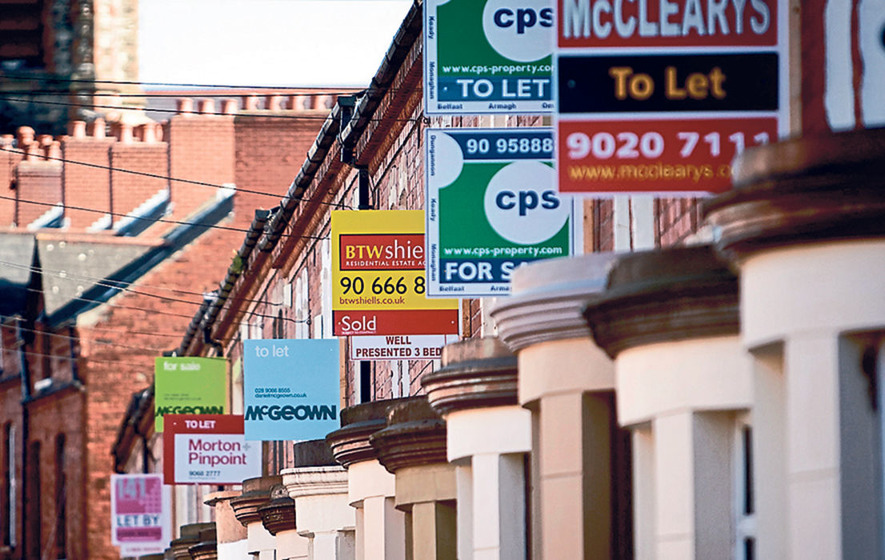property sign: (552, 3, 805, 206), (420, 127, 594, 295), (328, 206, 473, 334), (422, 1, 569, 119), (236, 340, 362, 450), (161, 407, 277, 497), (149, 353, 245, 427), (105, 473, 182, 555)
